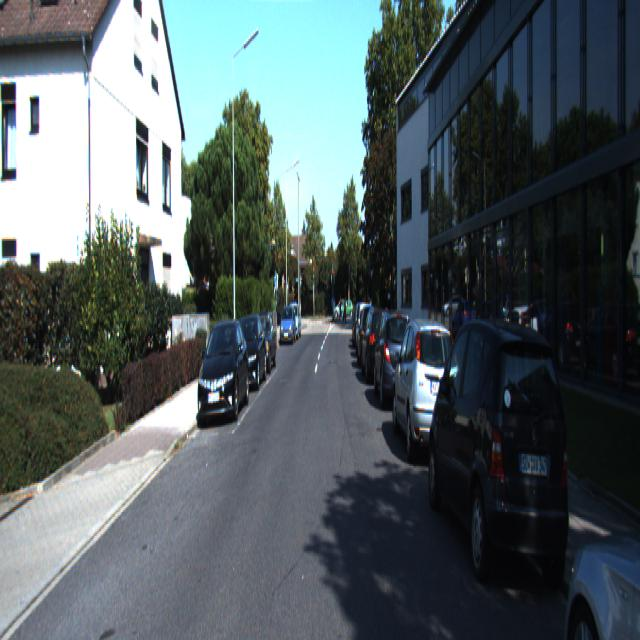Car: (427, 307, 576, 599), (560, 377, 640, 638), (392, 312, 464, 468), (197, 318, 250, 429), (373, 305, 418, 412), (229, 314, 267, 394), (360, 304, 396, 387), (247, 312, 278, 374), (280, 304, 296, 346)
